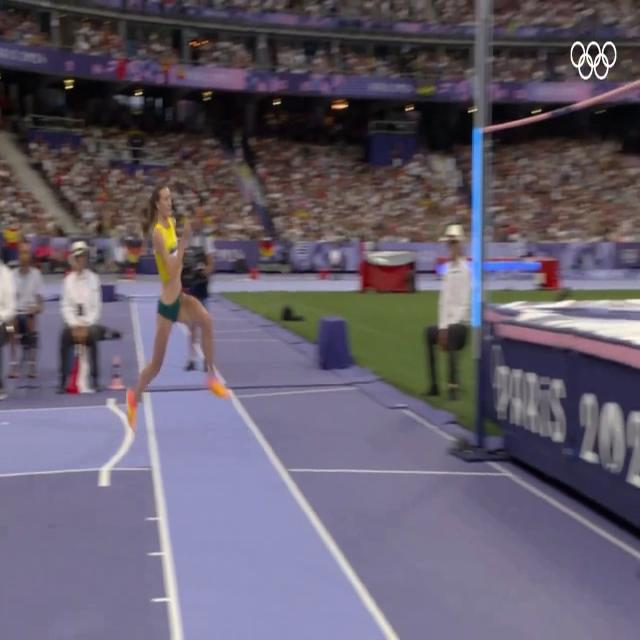run: (128, 183, 232, 429)
